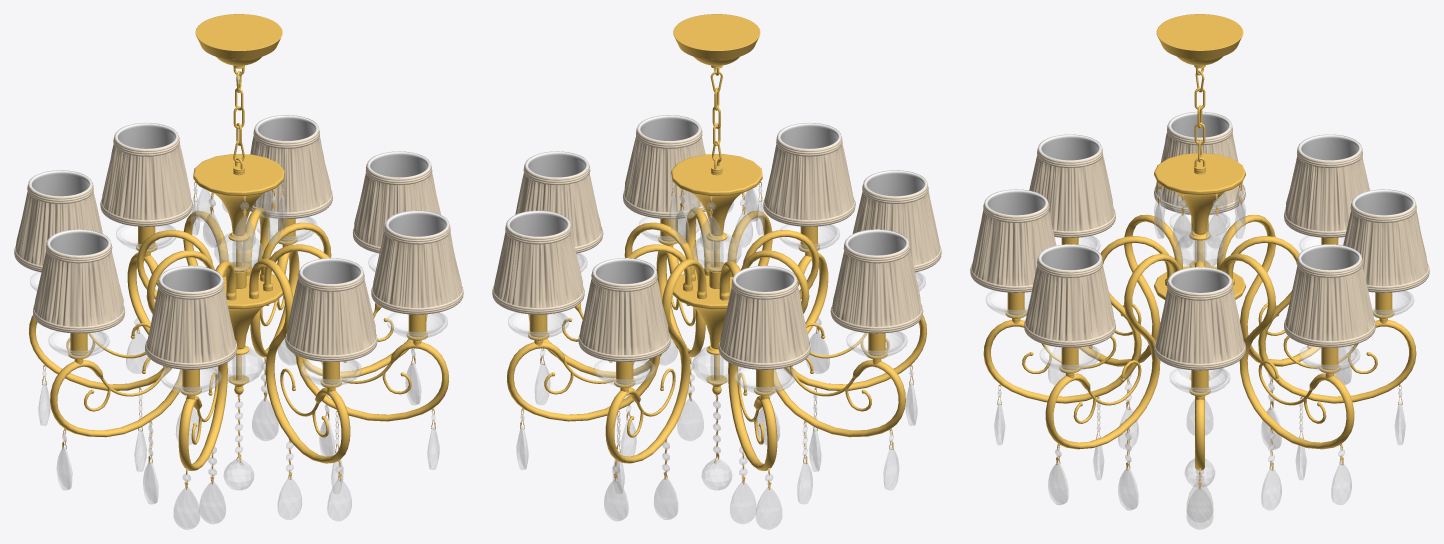
Rendered from Osgona chandelier.glb.
3 views of the same model, side by side, from view 1: azimuth 30°, elevation 25°; view 2: azimuth 150°, elevation 25°; view 3: azimuth 270°, elevation 25° (orthographic).
Visible parts, largest first — view 1: Plafon_012_Plafon_tkan_snarugi_0, Plafon_016_Plafon_tkan_snarugi_0, Plafon_014_Plafon_tkan_snarugi_0, Plafon_011_Plafon_tkan_snarugi_0, Plafon_013_Plafon_tkan_snarugi_0, Plafon_017_Plafon_tkan_snarugi_0, Rectangle732, Line026, Rectangle733, Plafon_015_Plafon_tkan_snarugi_0, Line028, Plafon_004_Plafon_tkan_snarugi_0 (+40 smaller); view 2: Plafon_016_Plafon_tkan_snarugi_0, Plafon_015_Plafon_tkan_snarugi_0, Plafon_014_Plafon_tkan_snarugi_0, Plafon_017_Plafon_tkan_snarugi_0, Plafon_012_Plafon_tkan_snarugi_0, Plafon_011_Plafon_tkan_snarugi_0, Rectangle732, Line030, Rectangle733, Plafon_013_Plafon_tkan_snarugi_0, Line028, Plafon_004_Plafon_tkan_snarugi_0 (+40 smaller); view 3: Plafon_011_Plafon_tkan_snarugi_0, Plafon_017_Plafon_tkan_snarugi_0, Plafon_004_Plafon_tkan_snarugi_0, Plafon_013_Plafon_tkan_snarugi_0, Plafon_016_Plafon_tkan_snarugi_0, Plafon_012_Plafon_tkan_snarugi_0, Plafon_015_Plafon_tkan_snarugi_0, Rectangle732, Line025, Line031, Rectangle733, Line030 (+38 smaller).
Boxes of the visible parts, box(x1,y1,x2,y2) form: Plafon_012_Plafon_tkan_snarugi_0: box(286, 278, 376, 355); Plafon_016_Plafon_tkan_snarugi_0: box(101, 144, 191, 220); Plafon_014_Plafon_tkan_snarugi_0: box(34, 251, 123, 326); Plafon_011_Plafon_tkan_snarugi_0: box(372, 231, 462, 307); Plafon_013_Plafon_tkan_snarugi_0: box(146, 287, 235, 363); Plafon_017_Plafon_tkan_snarugi_0: box(250, 136, 331, 212); Rectangle732: box(193, 154, 284, 235); Line026: box(249, 258, 350, 463); Rectangle733: box(195, 14, 282, 65); Plafon_015_Plafon_tkan_snarugi_0: box(15, 191, 102, 265); Line028: box(50, 250, 214, 437); Plafon_004_Plafon_tkan_snarugi_0: box(354, 172, 440, 246); Plafon_016_Plafon_tkan_snarugi_0: box(579, 279, 669, 355); Plafon_015_Plafon_tkan_snarugi_0: box(720, 286, 809, 363); Plafon_014_Plafon_tkan_snarugi_0: box(832, 250, 921, 326); Plafon_017_Plafon_tkan_snarugi_0: box(493, 232, 583, 307); Plafon_012_Plafon_tkan_snarugi_0: box(764, 144, 854, 220); Plafon_011_Plafon_tkan_snarugi_0: box(624, 136, 705, 212); Rectangle732: box(671, 154, 762, 235); Line030: box(605, 258, 706, 463); Rectangle733: box(673, 14, 760, 65); Plafon_013_Plafon_tkan_snarugi_0: box(852, 191, 940, 265); Line028: box(740, 250, 905, 437); Plafon_004_Plafon_tkan_snarugi_0: box(515, 173, 601, 246); Plafon_011_Plafon_tkan_snarugi_0: box(1025, 266, 1114, 340); Plafon_017_Plafon_tkan_snarugi_0: box(1285, 266, 1374, 340); Plafon_004_Plafon_tkan_snarugi_0: box(1155, 288, 1244, 363); Plafon_013_Plafon_tkan_snarugi_0: box(1029, 155, 1114, 231); Plafon_016_Plafon_tkan_snarugi_0: box(1343, 211, 1428, 286); Plafon_012_Plafon_tkan_snarugi_0: box(971, 210, 1056, 286); Plafon_015_Plafon_tkan_snarugi_0: box(1285, 156, 1369, 231); Rectangle732: box(1154, 153, 1245, 234); Line025: box(1045, 253, 1180, 449); Line031: box(1219, 253, 1354, 449); Rectangle733: box(1156, 14, 1243, 65); Line030: box(1226, 236, 1416, 403).
Size of the model in its own units: 754 by 824 by 754.
